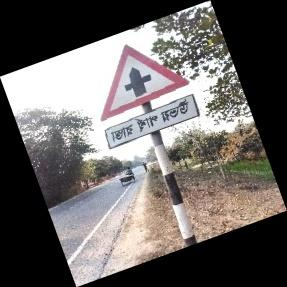Crossroad: (100, 43, 198, 153)
